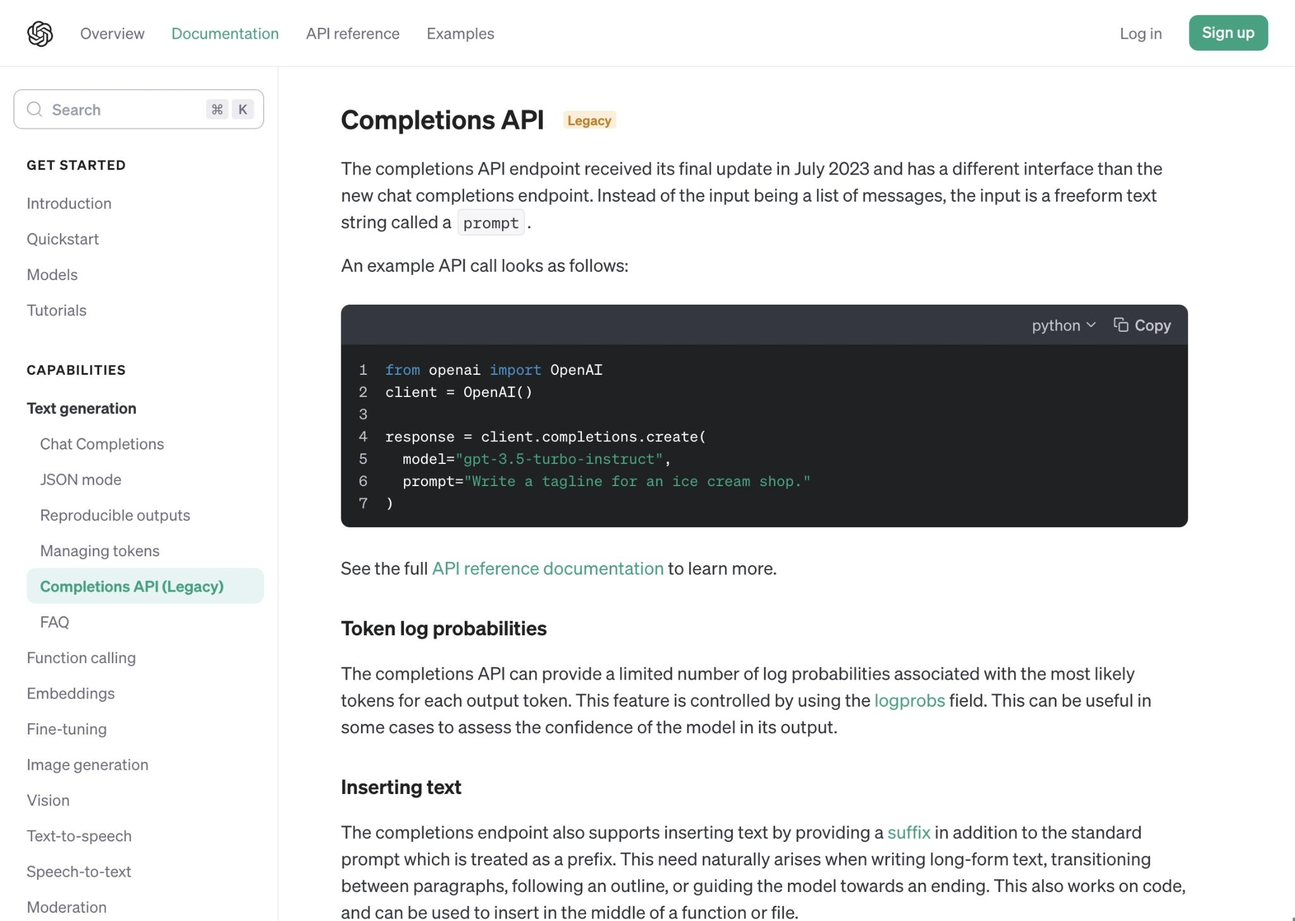webelement: (340, 817, 1186, 921), (340, 153, 1187, 233), (340, 659, 1187, 738), (340, 552, 1187, 579), (340, 250, 1187, 276), (13, 88, 263, 128), (340, 99, 615, 135), (13, 219, 263, 255), (13, 255, 263, 291), (13, 638, 263, 674), (13, 745, 263, 781), (13, 781, 263, 817), (13, 184, 263, 219), (13, 291, 263, 326), (13, 389, 263, 424), (13, 674, 263, 709), (13, 710, 263, 745), (13, 817, 263, 852), (13, 852, 263, 887), (26, 460, 263, 496), (26, 496, 263, 532), (26, 425, 263, 460), (26, 532, 263, 567), (26, 567, 263, 602), (26, 603, 263, 638), (13, 888, 263, 921), (463, 471, 810, 489), (385, 426, 707, 444), (340, 613, 546, 640), (431, 555, 663, 577), (171, 11, 278, 53), (305, 11, 399, 53), (385, 359, 602, 377), (454, 448, 662, 466), (340, 772, 460, 799), (426, 11, 494, 53), (384, 381, 532, 400), (1188, 15, 1267, 50), (79, 11, 144, 53), (1119, 11, 1161, 53), (874, 687, 945, 710), (1031, 312, 1097, 334), (385, 471, 463, 489), (45, 98, 114, 118), (419, 359, 488, 377), (385, 448, 454, 466), (1201, 20, 1253, 42), (541, 359, 601, 377), (205, 98, 253, 118), (887, 819, 930, 841), (488, 359, 540, 377), (1134, 312, 1170, 334), (26, 19, 52, 46), (384, 359, 419, 377), (358, 381, 367, 400), (358, 359, 367, 377), (358, 404, 367, 422), (358, 426, 367, 444), (358, 448, 367, 466), (358, 471, 367, 489), (358, 493, 367, 511), (662, 448, 671, 466), (384, 493, 393, 511)
